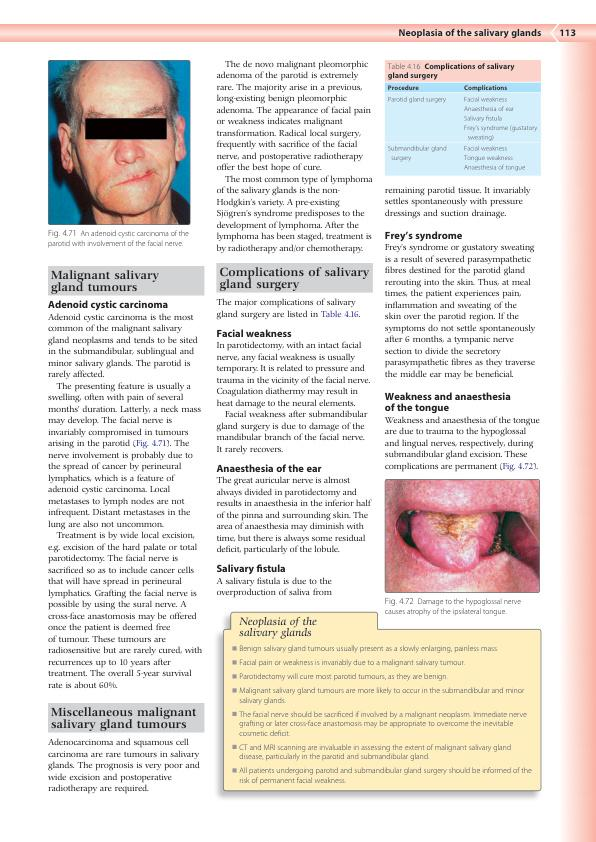caption: (384, 597, 522, 617), (47, 229, 189, 248), (387, 62, 515, 81), (238, 616, 319, 640)
header: (398, 27, 542, 39)
image: (47, 59, 191, 226), (383, 478, 541, 595)
list: (230, 644, 533, 787)
section-heading: (50, 705, 197, 732), (218, 265, 370, 291), (50, 269, 160, 295)
sub-section-heading: (384, 391, 512, 414), (47, 299, 169, 311), (216, 463, 323, 473), (384, 231, 463, 242), (216, 563, 286, 574), (216, 328, 292, 338)
table: (384, 82, 541, 176)
text: (47, 313, 206, 691), (215, 59, 373, 255), (383, 243, 537, 380), (215, 340, 371, 456), (216, 475, 373, 555), (384, 415, 542, 473), (47, 737, 200, 795), (384, 185, 531, 219), (215, 297, 360, 321), (215, 576, 333, 598)
